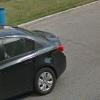Car: (2, 21, 76, 98)
